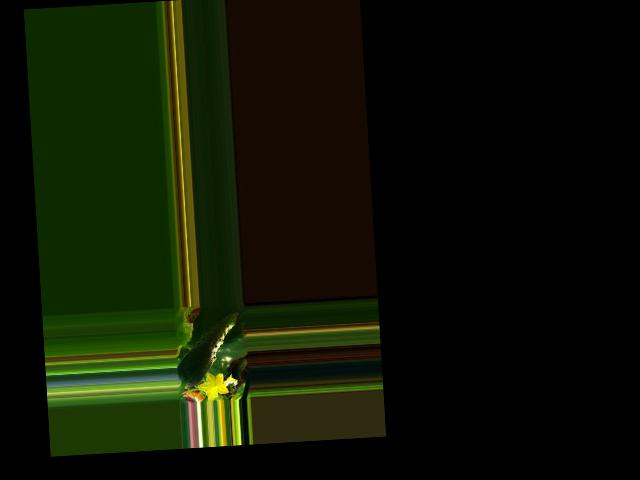cucumber: (173, 311, 243, 387)
